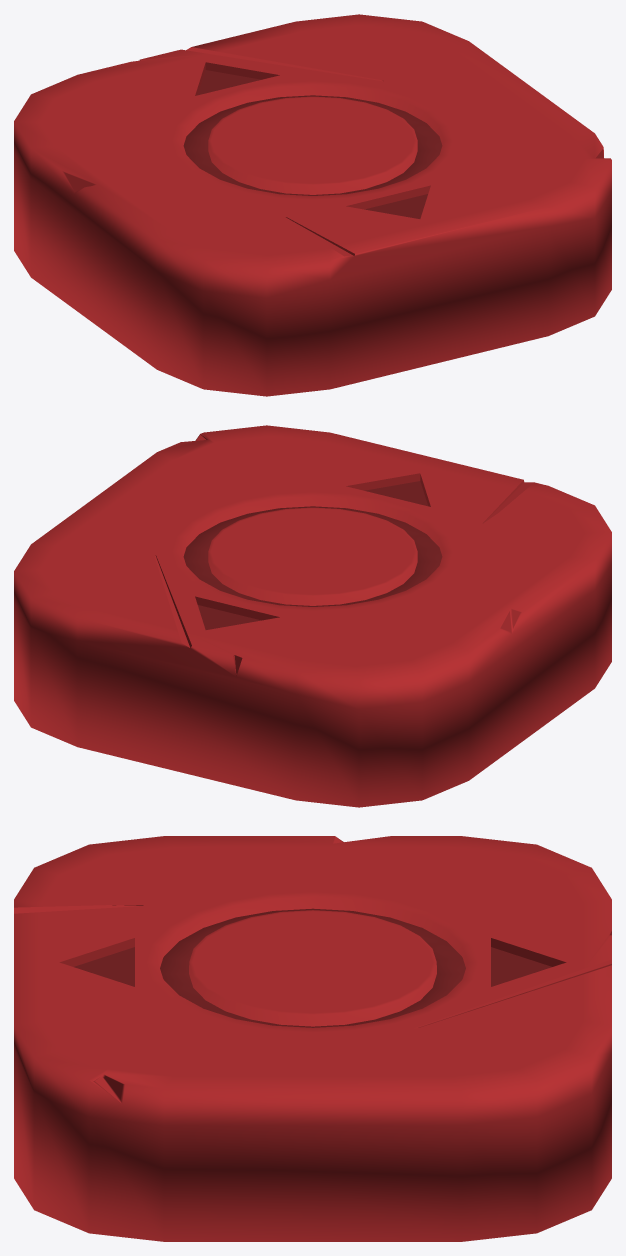
Rendered from Plataforma_grave_horizontal.fbx.
3 renders of one model, top to bottom at view 1: azimuth 30°, elevation 25°; view 2: azimuth 150°, elevation 25°; view 3: azimuth 270°, elevation 25°, orthographic. The views are drawn at different scales.
Parts seen in each view (by area): view 1: Platform, Torus.002, Cube.003, Cube.002; view 2: Platform, Torus.002, Cube.002, Cube.003; view 3: Platform, Torus.002, Cube.002, Cube.003.
Boxes of the visible parts, <box> form: Platform: <box>14,14,611,396</box>; Torus.002: <box>183,95,442,195</box>; Cube.003: <box>198,70,261,95</box>; Cube.002: <box>364,194,427,218</box>; Platform: <box>14,425,611,807</box>; Torus.002: <box>183,506,442,606</box>; Cube.002: <box>364,481,427,506</box>; Cube.003: <box>198,605,261,629</box>; Platform: <box>14,836,611,1241</box>; Torus.002: <box>160,908,465,1027</box>; Cube.002: <box>74,947,134,986</box>; Cube.003: <box>491,947,551,986</box>.
Bounding box in the file's own units: 100 × 28.25 × 100.
